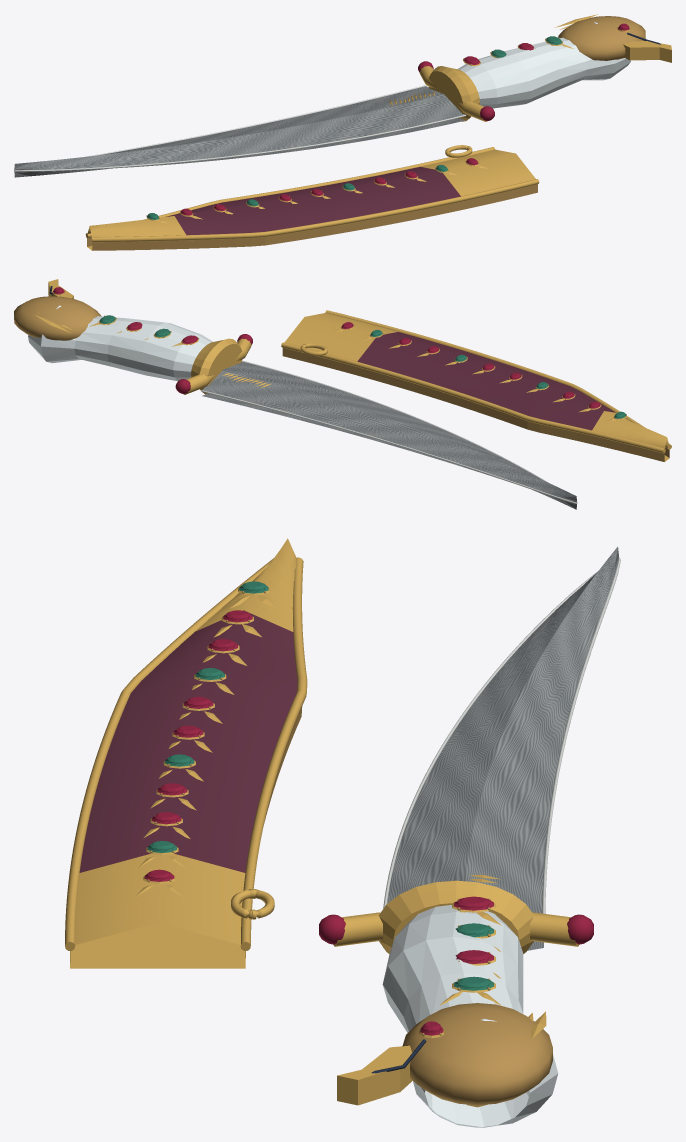
Rendered from falcon_dagger.fbx.
3 views of the same model, one above another, from view 1: azimuth 30°, elevation 25°; view 2: azimuth 150°, elevation 25°; view 3: azimuth 270°, elevation 25° (orthographic). The views are drawn at different scales.
Visible parts, largest first — view 1: Body; view 2: Body; view 3: Body.
Part boxes in pixels (<box>): Body: <box>14,14,671,250</box>; Body: <box>14,279,671,509</box>; Body: <box>65,538,620,1127</box>.
Bounding box in the file's own units: 0.395 × 0.0367 × 0.1583.
